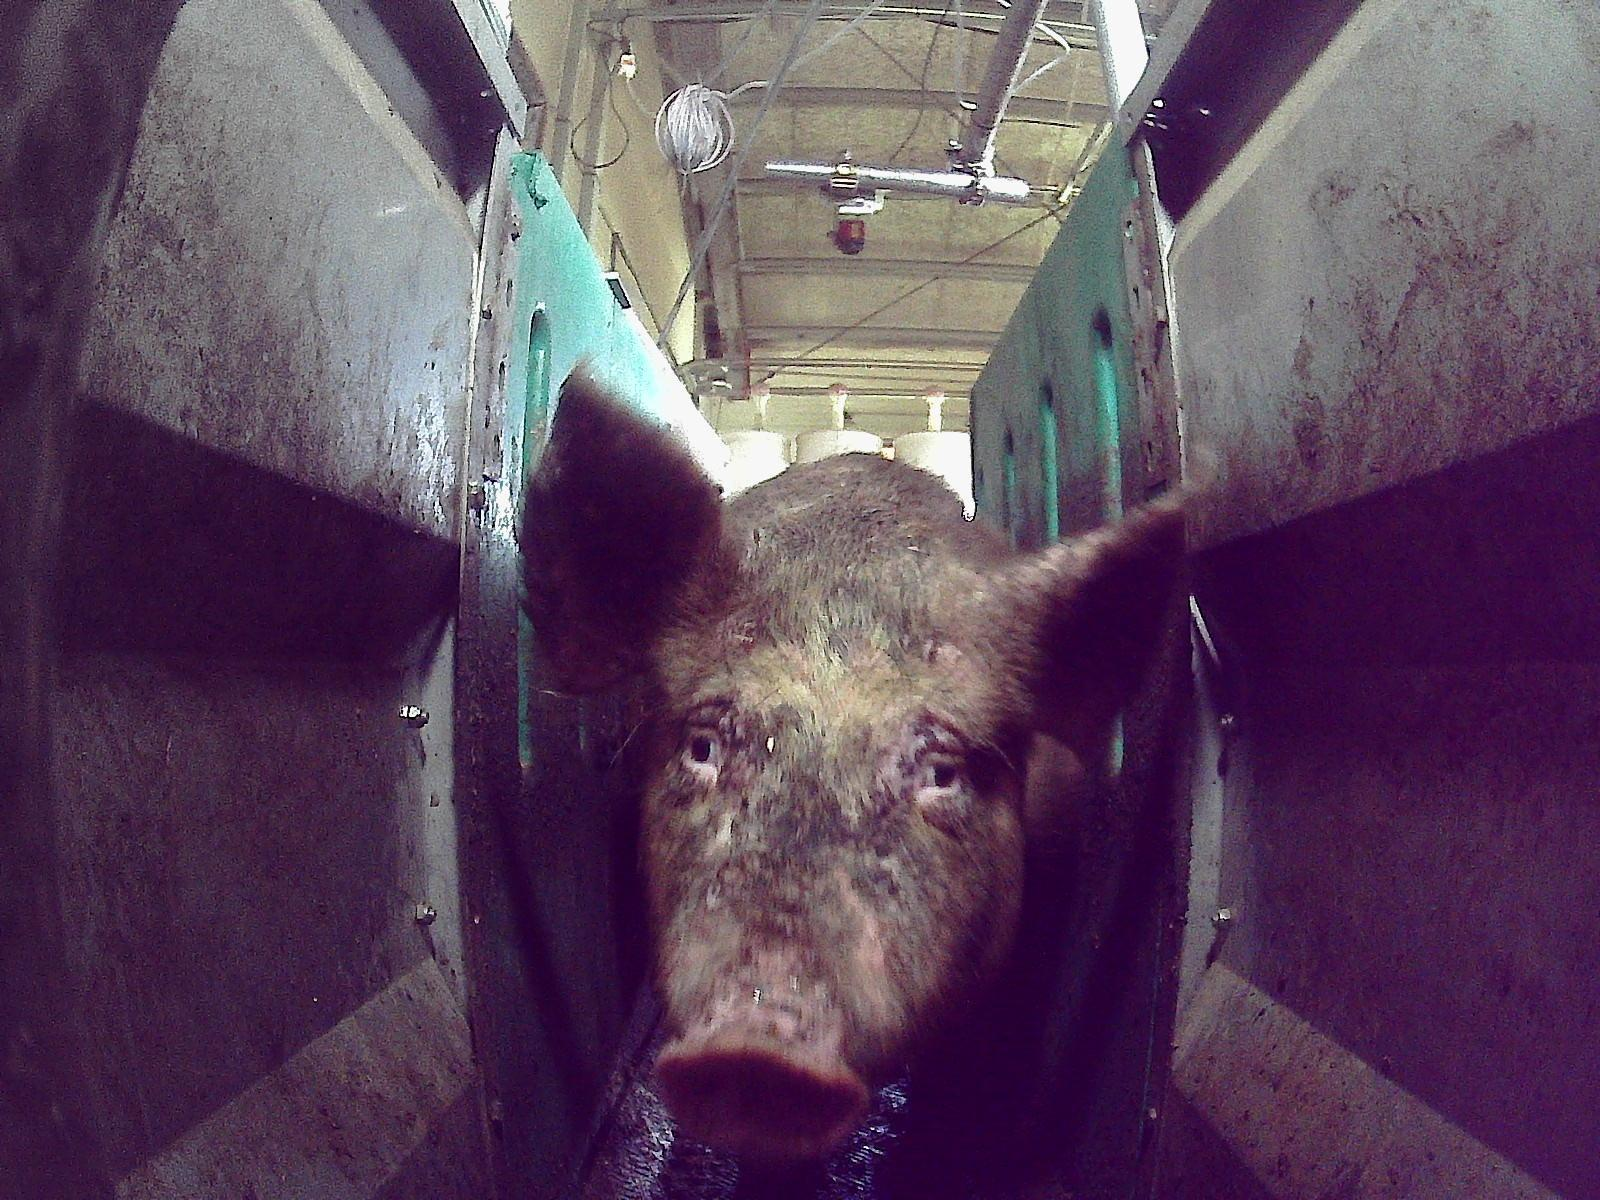Face: (638, 572, 1028, 1165)
